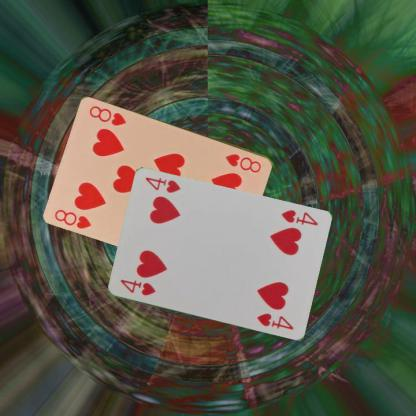4h: (278, 207, 319, 227), (117, 277, 157, 297)
8h: (52, 206, 93, 230), (223, 151, 263, 174)
